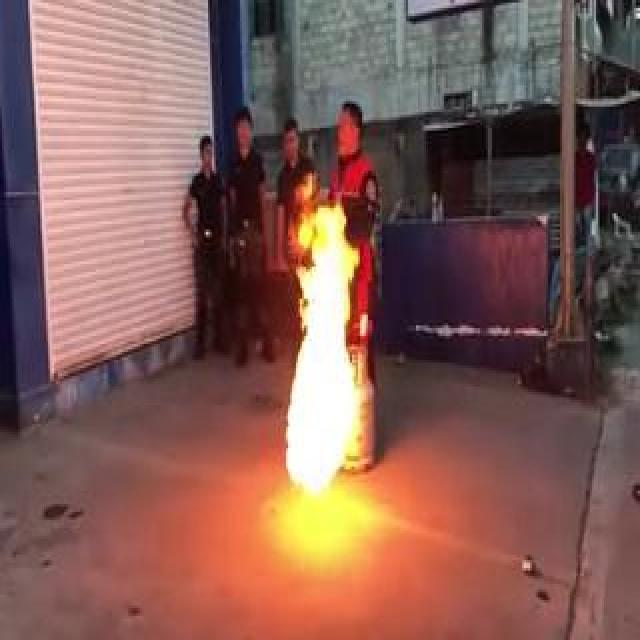Fire: (282, 197, 366, 504)
